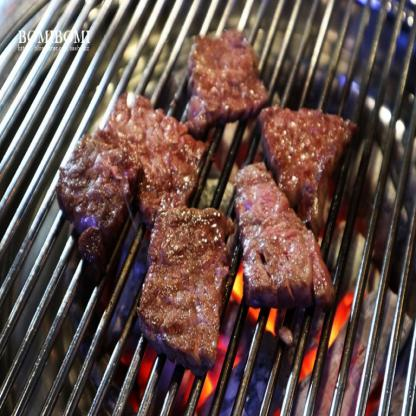Carne: (238, 157, 342, 307), (68, 101, 195, 223), (142, 192, 223, 367), (264, 105, 353, 210), (186, 26, 275, 122)
